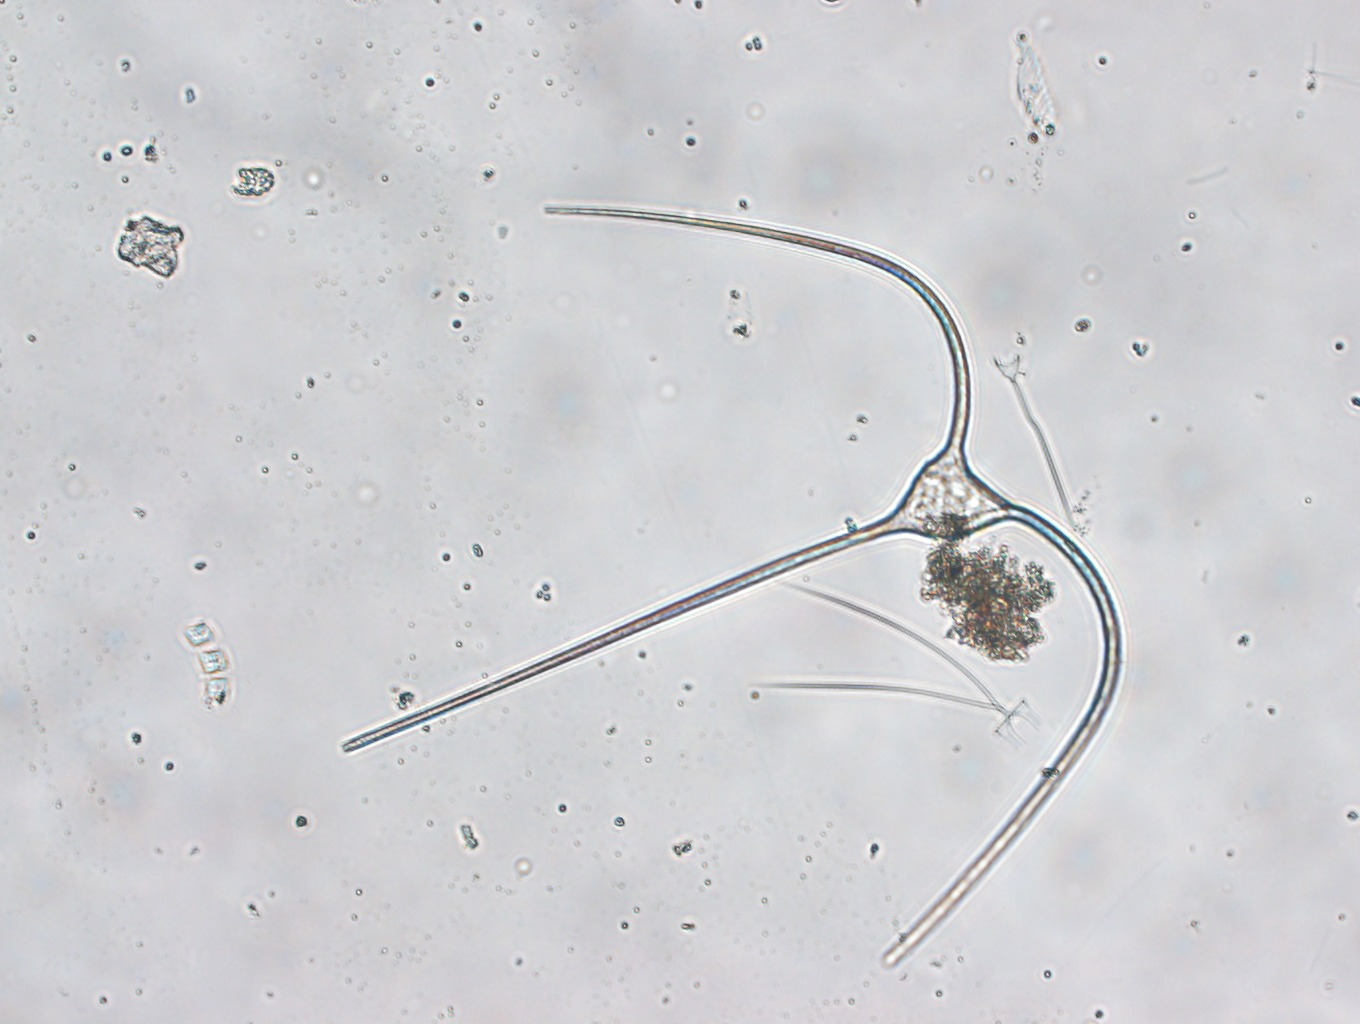ceratium trichoceros: (341, 200, 1133, 975)
